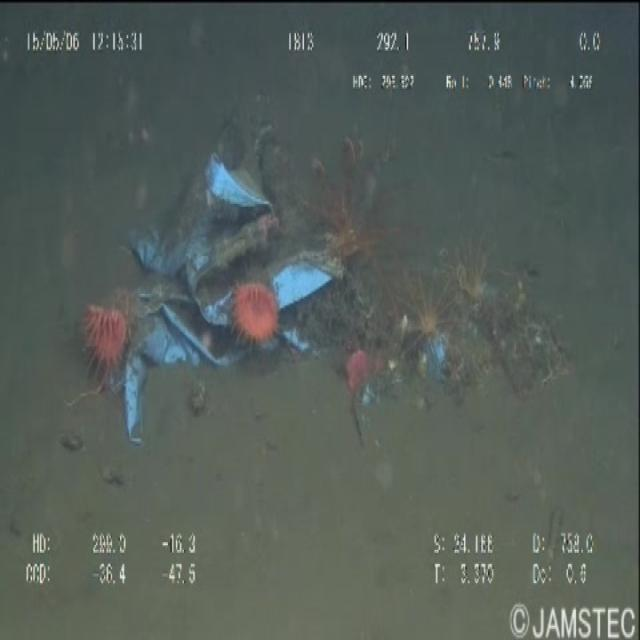Accessories: (97, 130, 357, 463)
